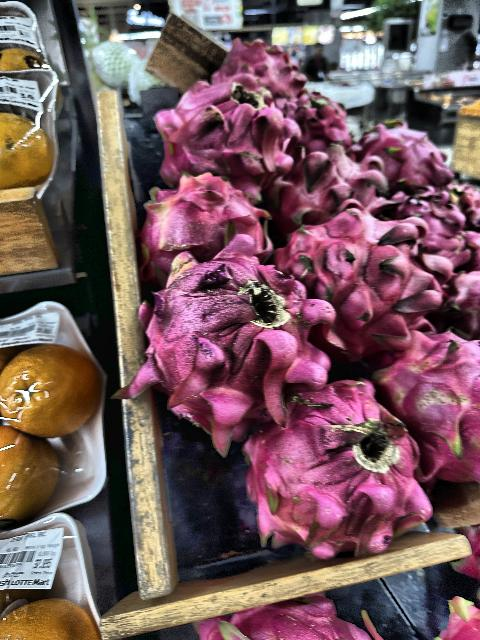buah-naga-matang: (240, 380, 434, 562), (141, 246, 333, 417), (279, 205, 437, 345), (364, 321, 480, 483), (140, 165, 270, 282), (155, 74, 283, 184), (287, 143, 379, 217), (196, 604, 378, 640), (212, 36, 308, 98), (362, 118, 446, 184), (288, 88, 348, 152)
